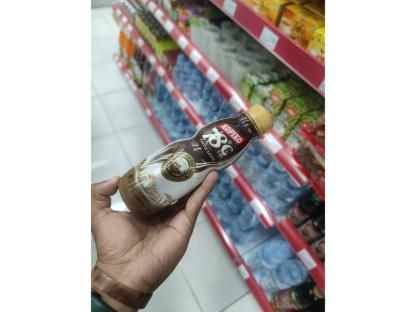Plastic Bottle: (107, 100, 279, 228)
